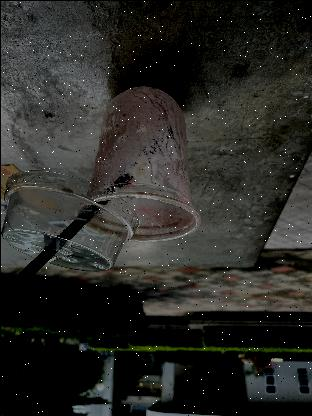Others: (0, 120, 179, 310), (98, 76, 198, 248), (0, 164, 134, 276)
